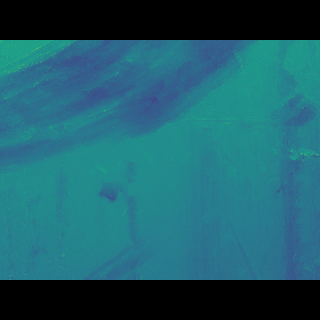Loch: (0, 69, 278, 183), (74, 206, 179, 250), (221, 194, 264, 250)
